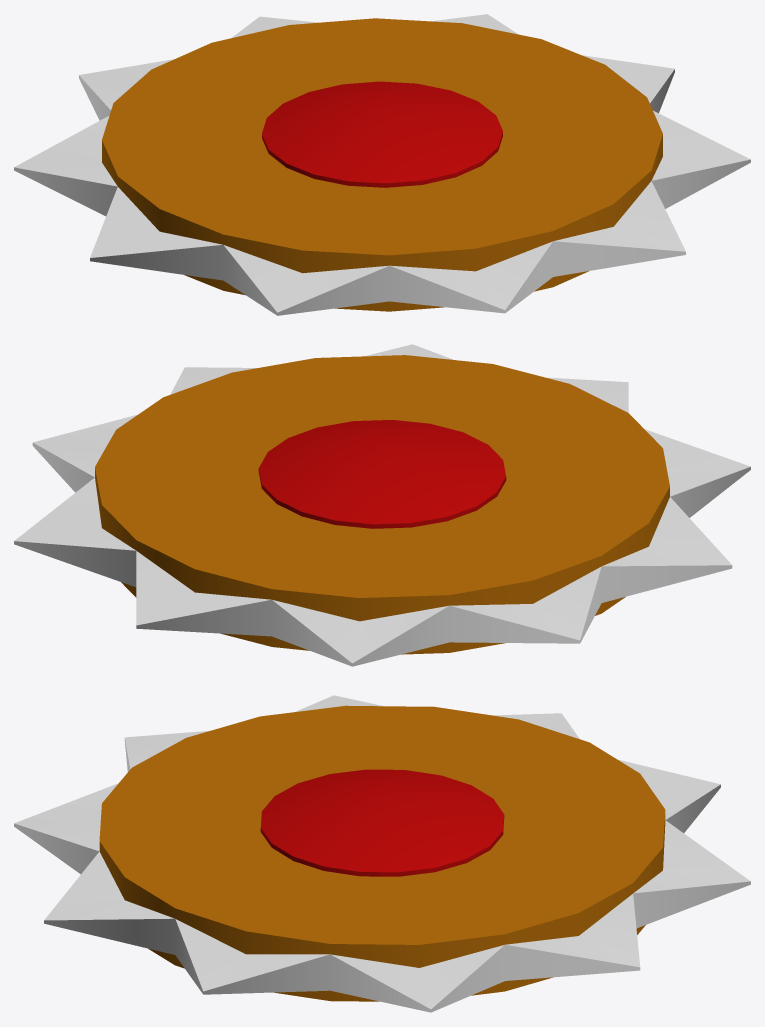
The model's file is Saw.fbx.
The picture shows the model from 3 angles, top to bottom: view 1: azimuth 30°, elevation 25°; view 2: azimuth 150°, elevation 25°; view 3: azimuth 270°, elevation 25°; orthographic projection. The views are drawn at different scales.
Parts seen in each view (by area): view 1: polySurface2; view 2: polySurface2; view 3: polySurface2.
Part boxes in pixels (x1=…): polySurface2: x1=14, y1=14, x2=750, y2=315; polySurface2: x1=14, y1=344, x2=750, y2=666; polySurface2: x1=14, y1=695, x2=750, y2=1012.
Bounding box in the file's own units: 15.05 × 2.6 × 14.92.
